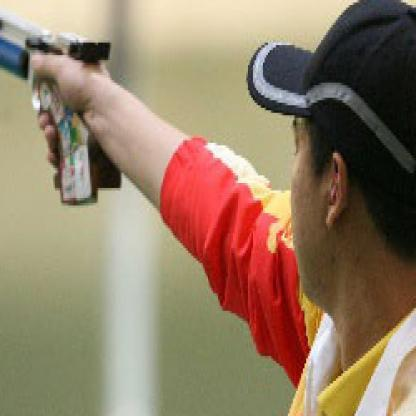gun: (0, 0, 123, 216)
